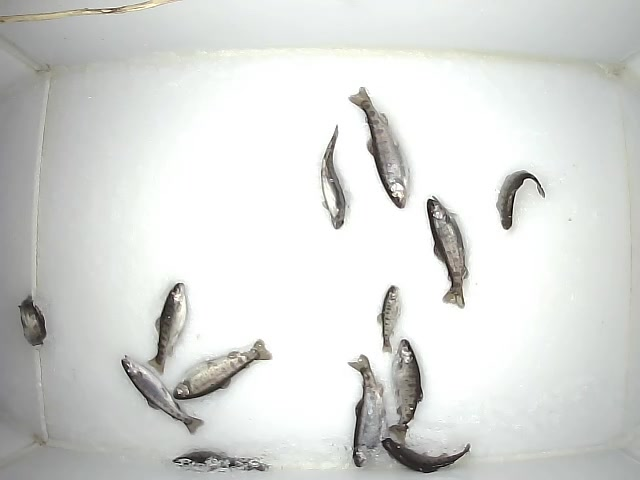fish: (347, 85, 409, 209), (117, 353, 205, 437), (171, 335, 273, 400), (425, 193, 468, 308), (345, 353, 385, 468), (144, 280, 189, 376), (386, 337, 426, 443), (319, 124, 356, 230), (379, 435, 473, 473), (494, 169, 545, 230), (170, 449, 272, 476), (375, 284, 403, 354), (14, 292, 49, 348)
